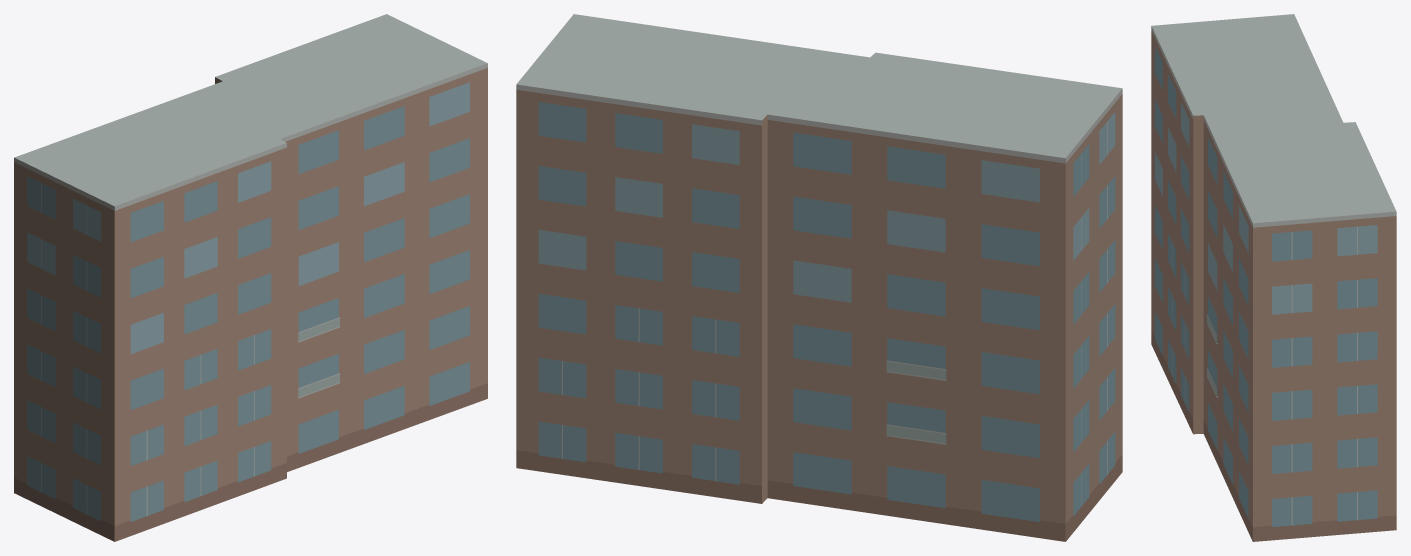
The model's file is survey-upis-32706427.glb.
3 renders of one model, left to right at view 1: azimuth 30°, elevation 25°; view 2: azimuth 150°, elevation 25°; view 3: azimuth 270°, elevation 25°, orthographic. The views are drawn at different scales.
Parts seen in each view (by area): view 1: survey-upis-32706427.tmp; view 2: survey-upis-32706427.tmp; view 3: survey-upis-32706427.tmp.
Part boxes in pixels (x1=…): survey-upis-32706427.tmp: x1=14, y1=14, x2=487, y2=541; survey-upis-32706427.tmp: x1=516, y1=14, x2=1122, y2=541; survey-upis-32706427.tmp: x1=1151, y1=14, x2=1396, y2=541.
Size of the model in its own units: 25.32 by 17.95 by 12.54.
